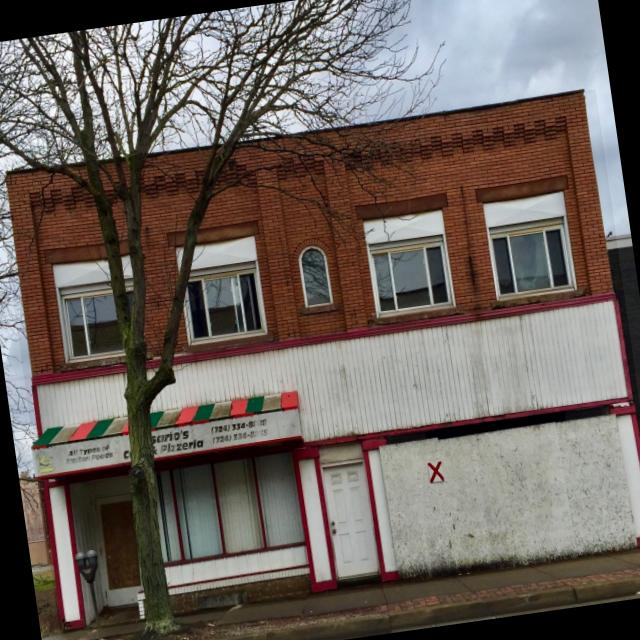House: (0, 89, 640, 634)
